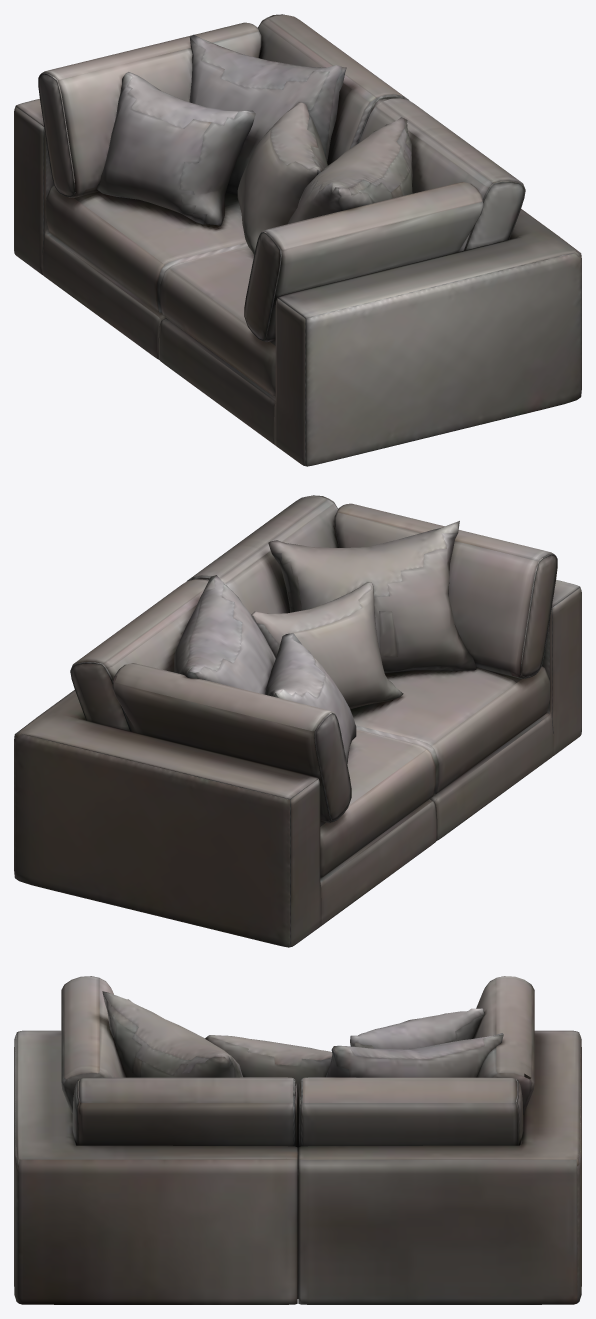
The model's file is sofa1-var1.glb.
3 views of the same model, one above another, from view 1: azimuth 30°, elevation 25°; view 2: azimuth 150°, elevation 25°; view 3: azimuth 270°, elevation 25° (orthographic). The views are drawn at different scales.
Parts seen in each view (by area): view 1: Sala_Cozinha.3148; view 2: Sala_Cozinha.3148; view 3: Sala_Cozinha.3148.
Boxes of the visible parts, <box> form: Sala_Cozinha.3148: <box>14,14,581,466</box>; Sala_Cozinha.3148: <box>14,495,581,947</box>; Sala_Cozinha.3148: <box>14,976,581,1304</box>.
Size of the model in its own units: 1.18 by 0.9403 by 2.12.
Materials: 1 (1 with a texture image).
